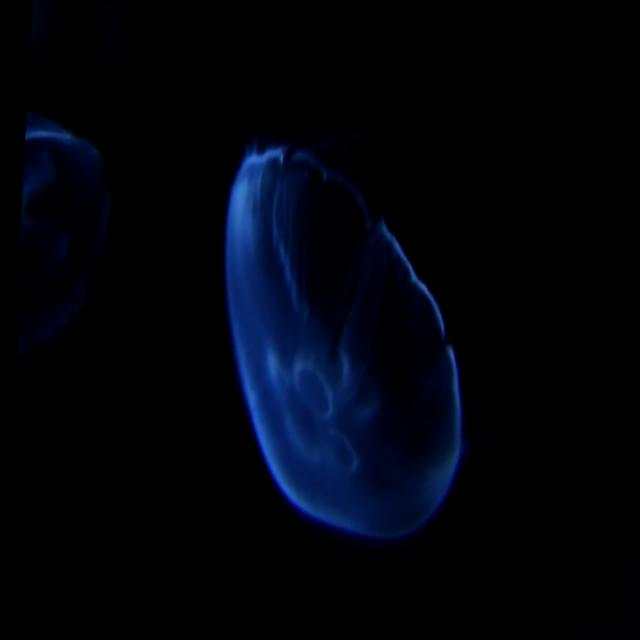Moon-jellyfish: (218, 114, 460, 537)
